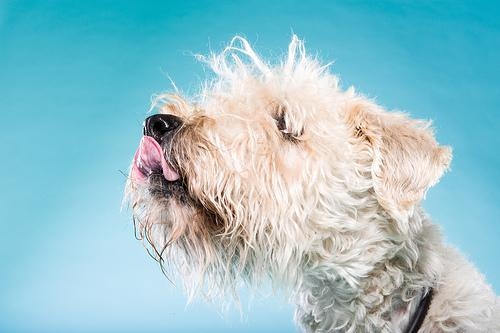dog-wheaten_terrier: (131, 76, 450, 230)
